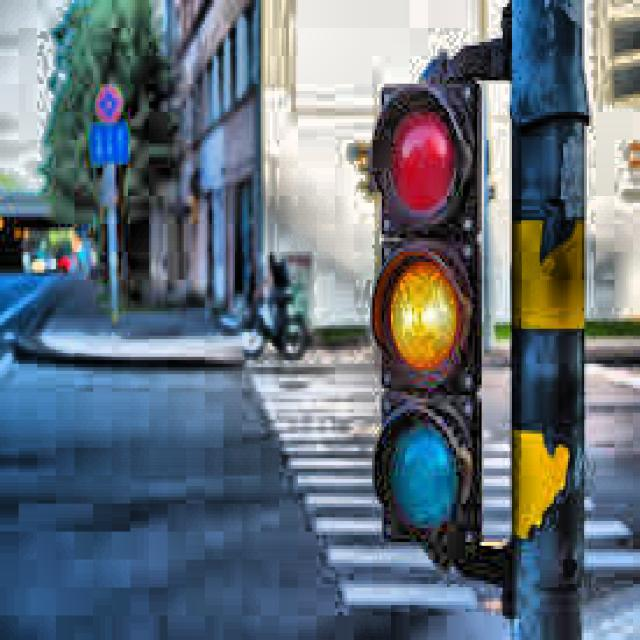yellow: (373, 83, 481, 544)
